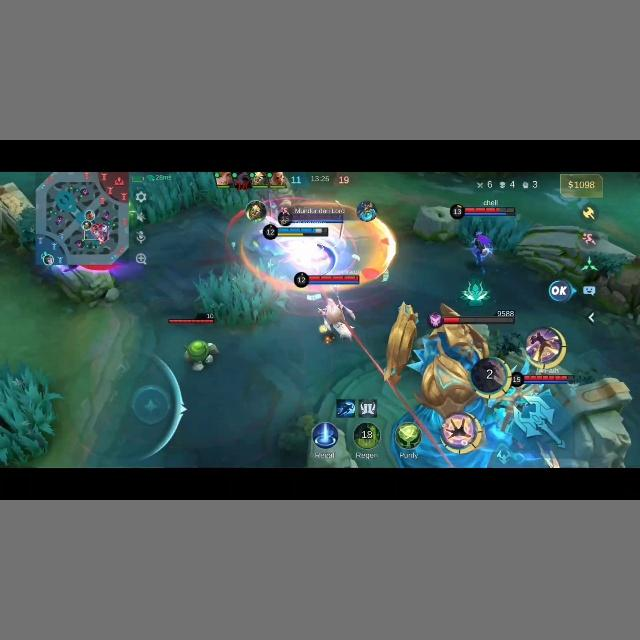hp_enemy: (428, 312, 515, 327), (292, 272, 368, 289), (452, 204, 517, 217), (274, 223, 334, 235), (279, 213, 340, 223), (522, 374, 574, 384), (166, 314, 217, 324)
vazon: (182, 338, 218, 371)
